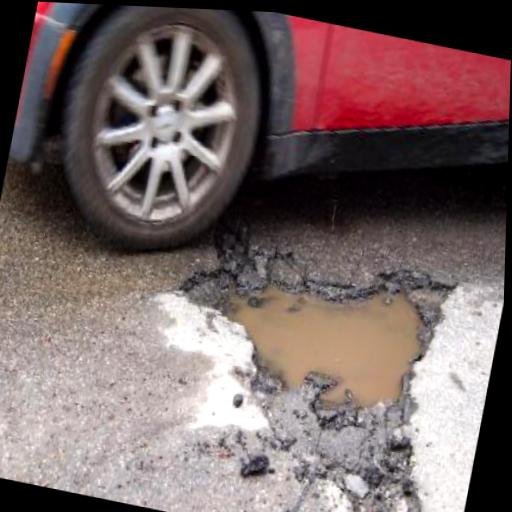pothole: (160, 218, 463, 433)
